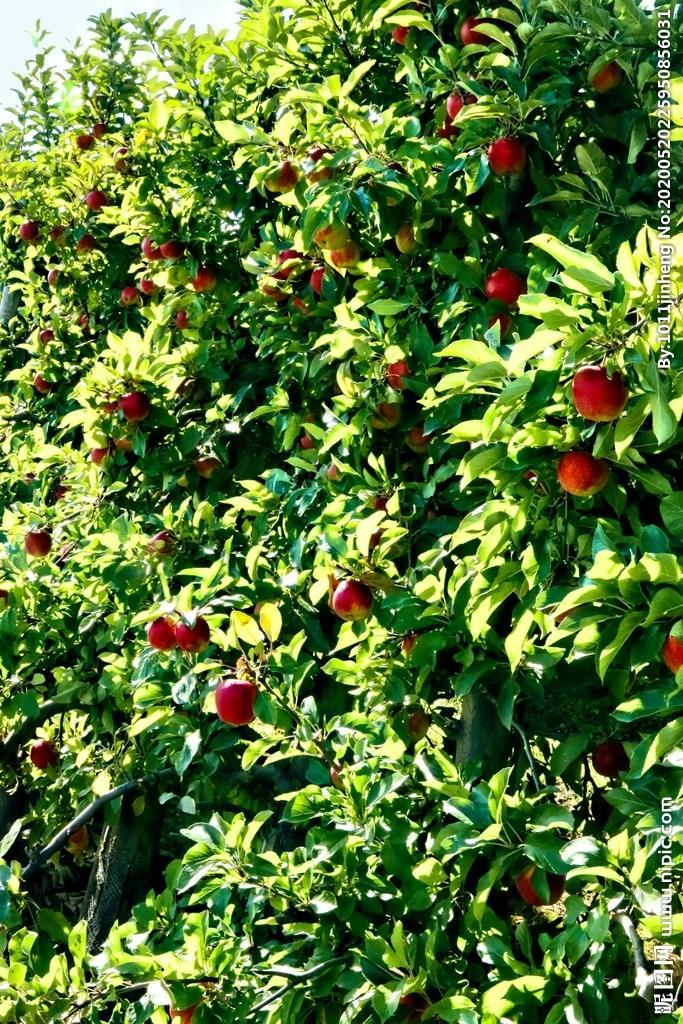apple: (215, 673, 261, 728)
